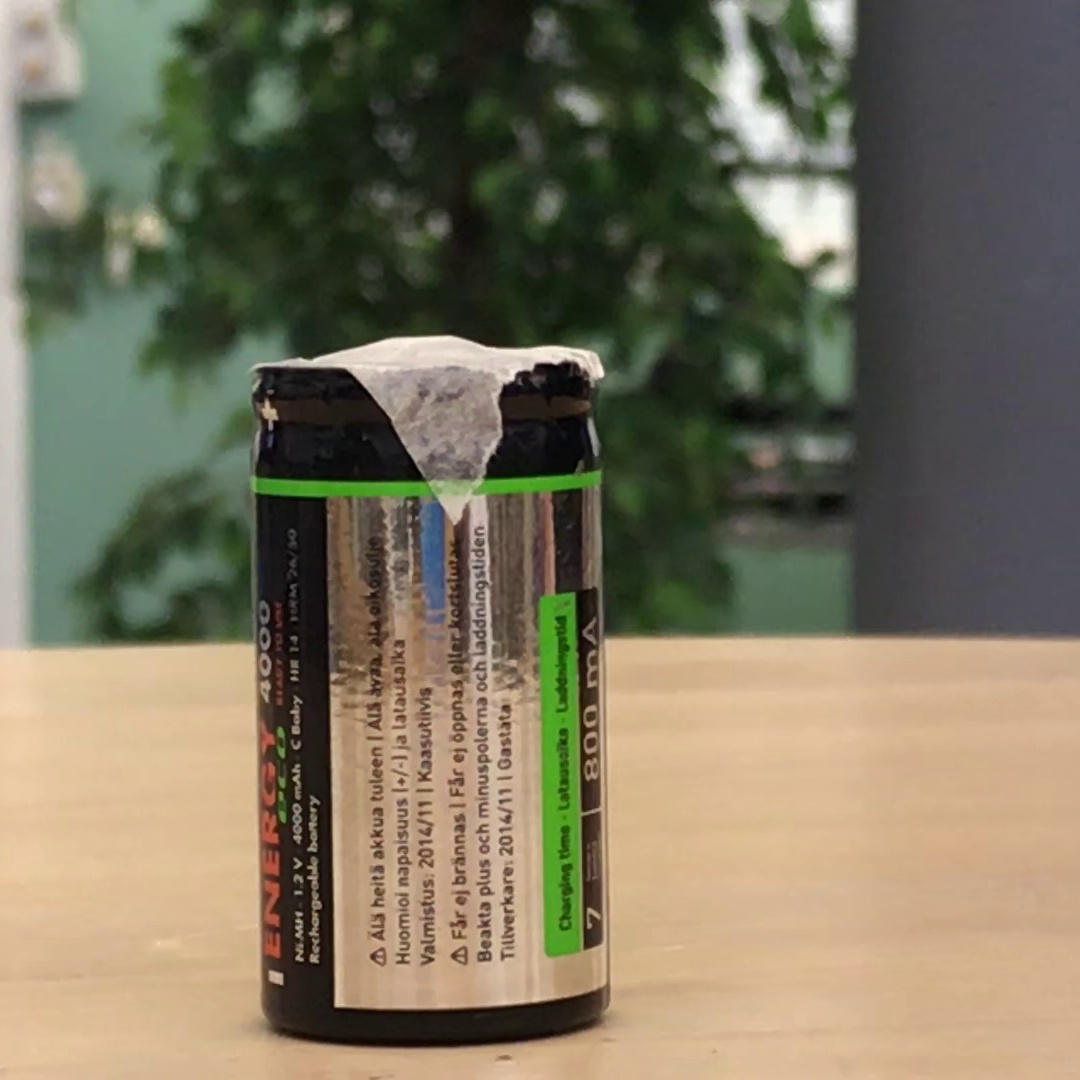keyword: (381, 645, 416, 689)
